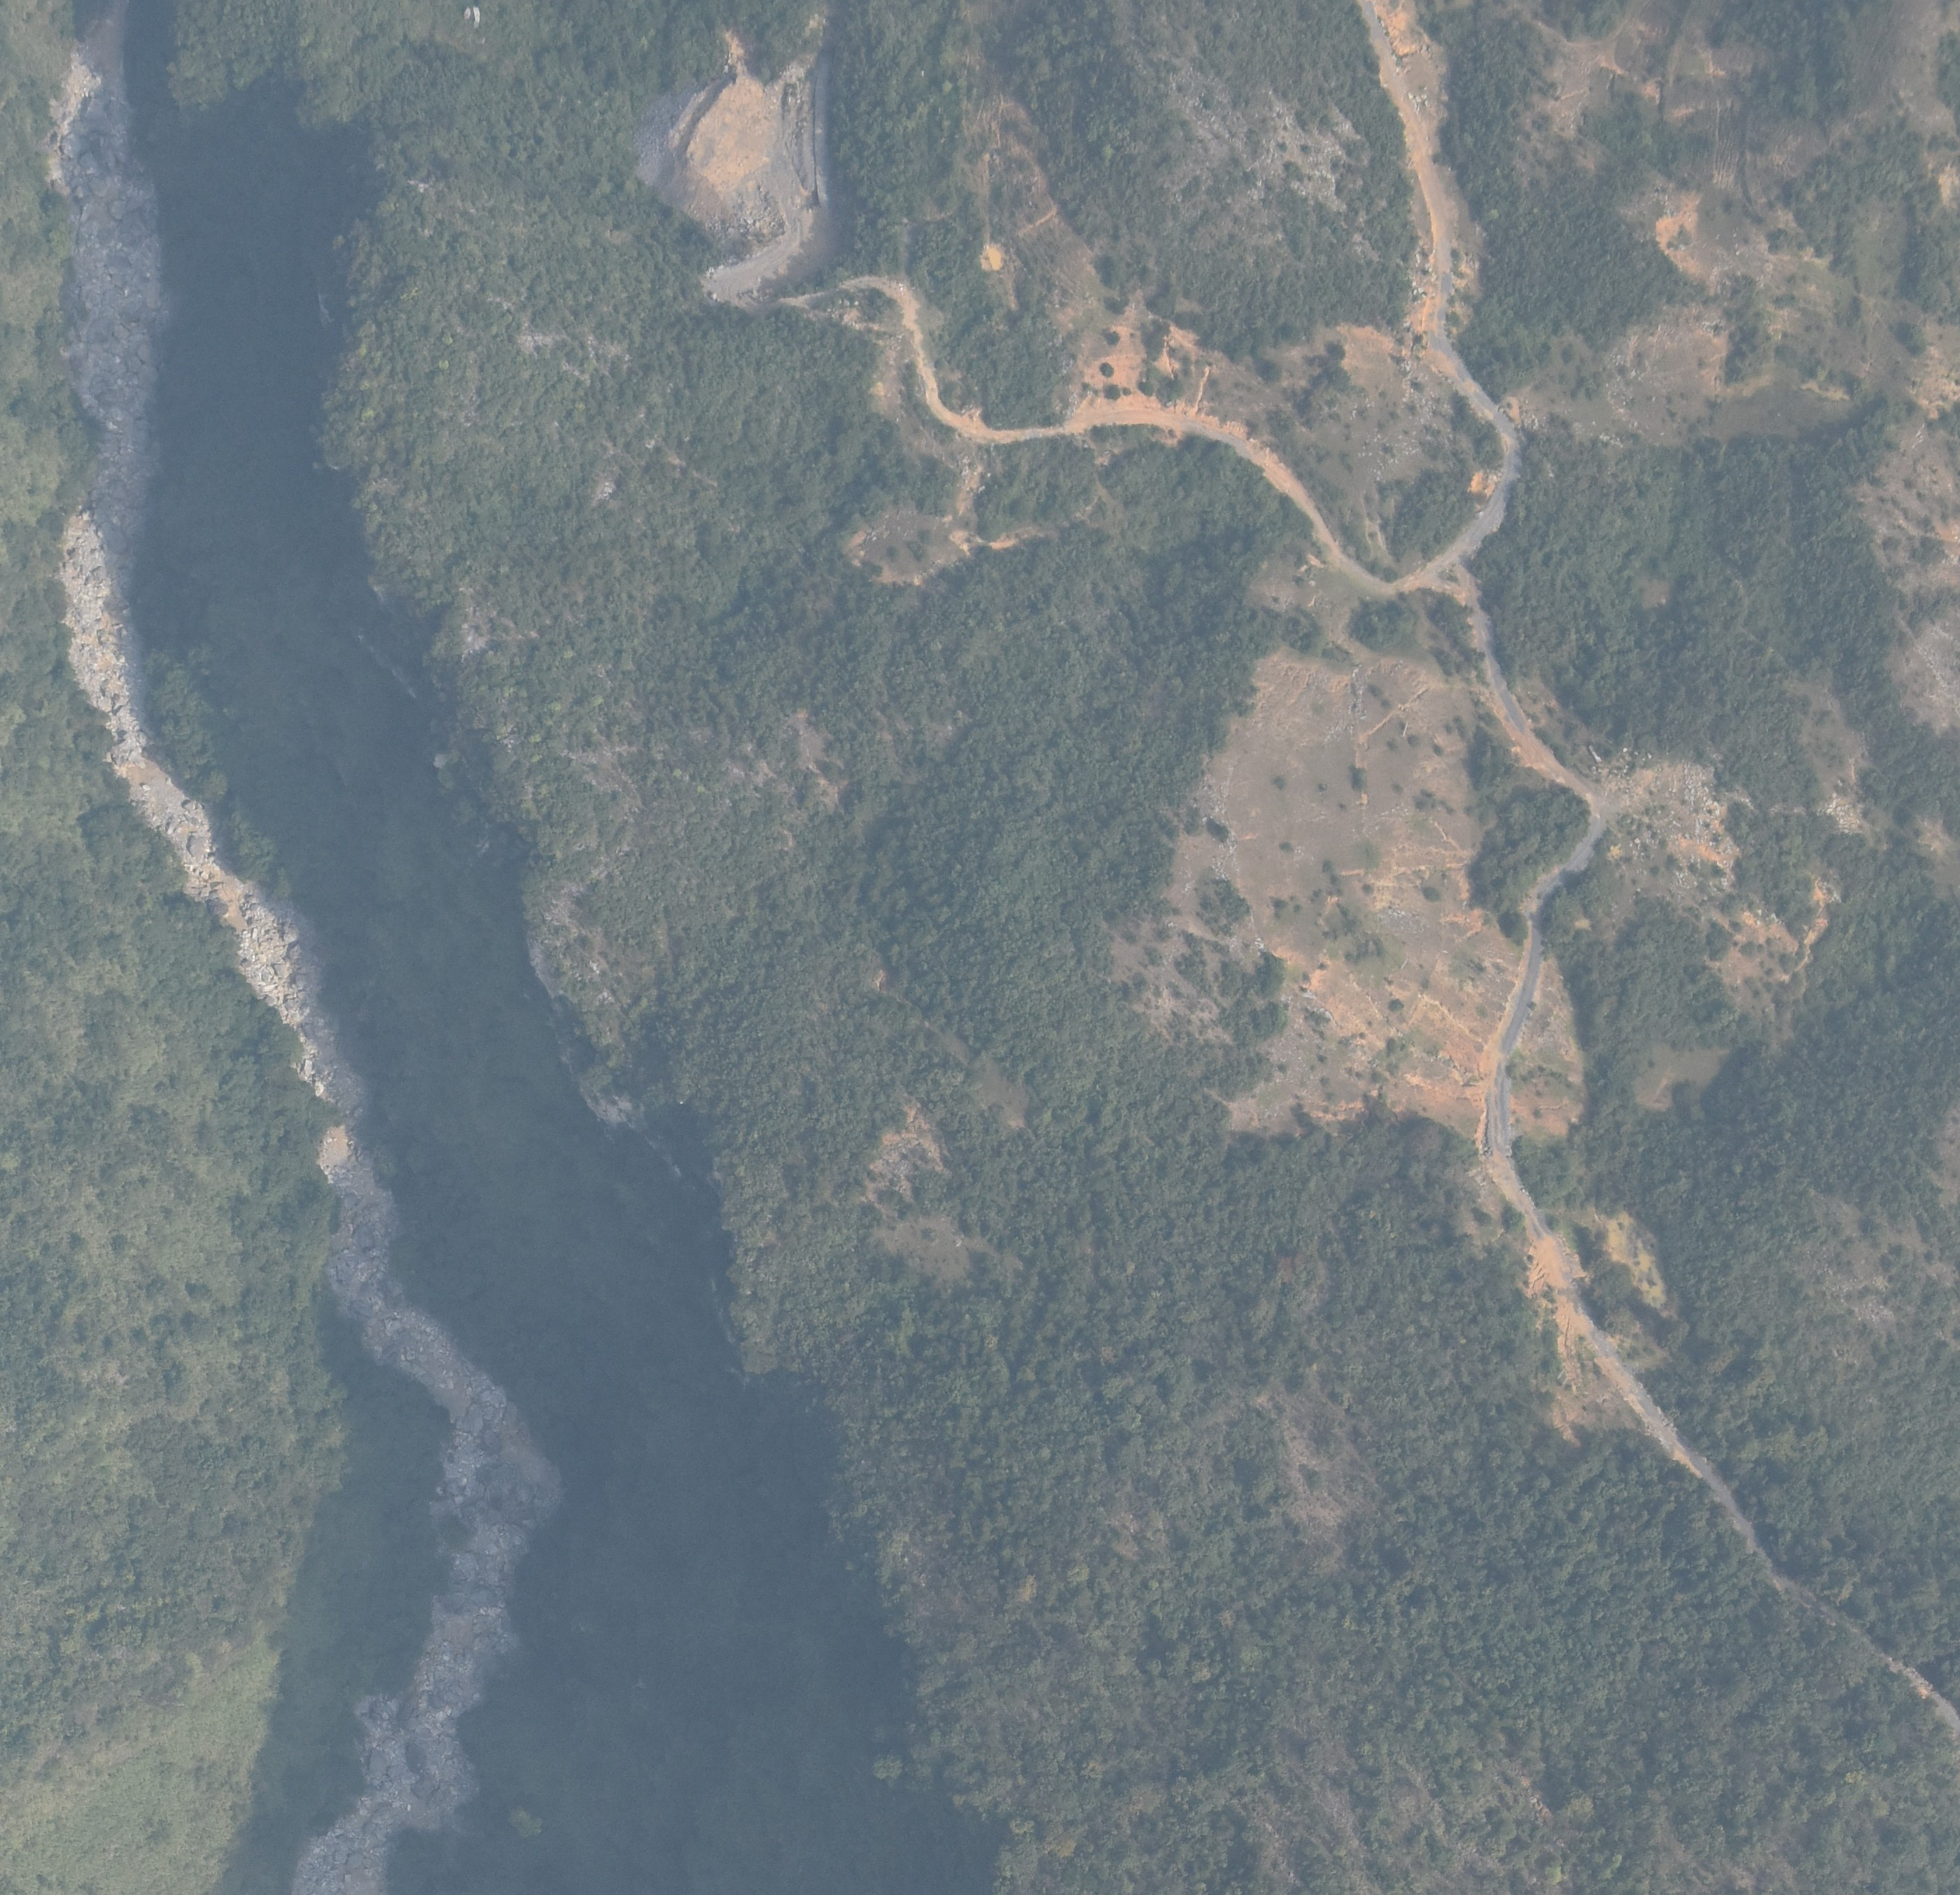quarry: (635, 22, 851, 311)
